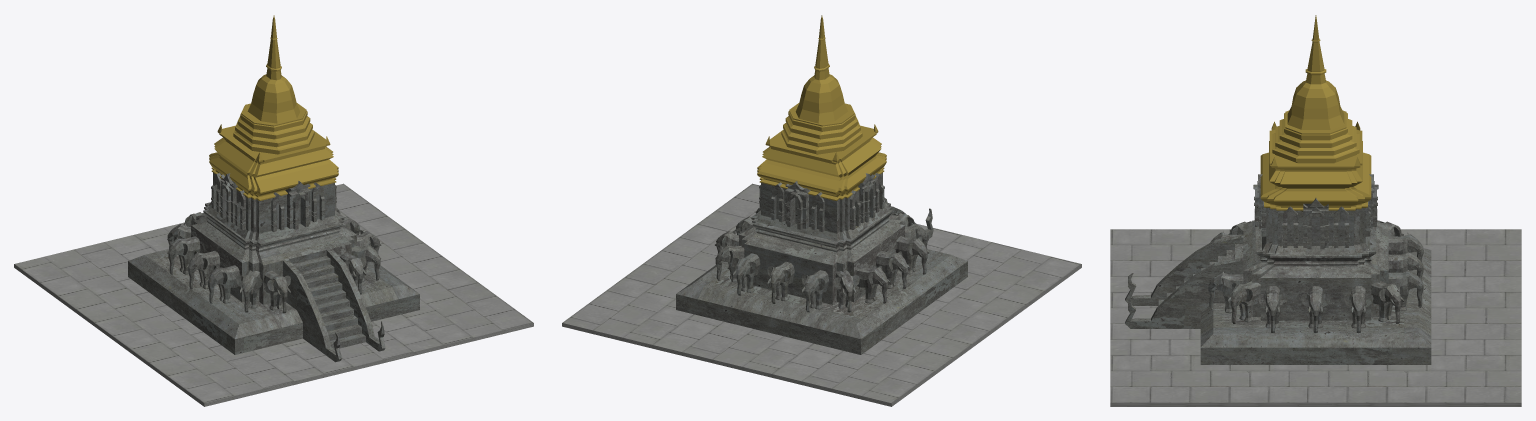
Rendered from elephant pagoda.glb.
The picture shows the model from 3 angles, left to right: view 1: azimuth 30°, elevation 25°; view 2: azimuth 150°, elevation 25°; view 3: azimuth 270°, elevation 25°; orthographic projection. The views are drawn at different scales.
Parts seen in each view (by area): view 1: part0, part1, part3, part2; view 2: part0, part1, part3, part2; view 3: part0, part1, part3, part2.
Part boxes in pixels (x1,y1,x2,y2): part0: (14,183,533,406); part1: (128,214,419,362); part3: (203,15,344,252); part2: (167,207,381,313); part0: (562,183,1081,406); part1: (676,198,967,354); part3: (751,15,892,252); part2: (715,207,929,312); part0: (1110,229,1521,406); part1: (1125,220,1431,364); part3: (1253,15,1378,266); part2: (1208,221,1423,332).
Bounding box in the file's own units: 1.88 × 1.55 × 1.88.
3 materials, 2 textured.
